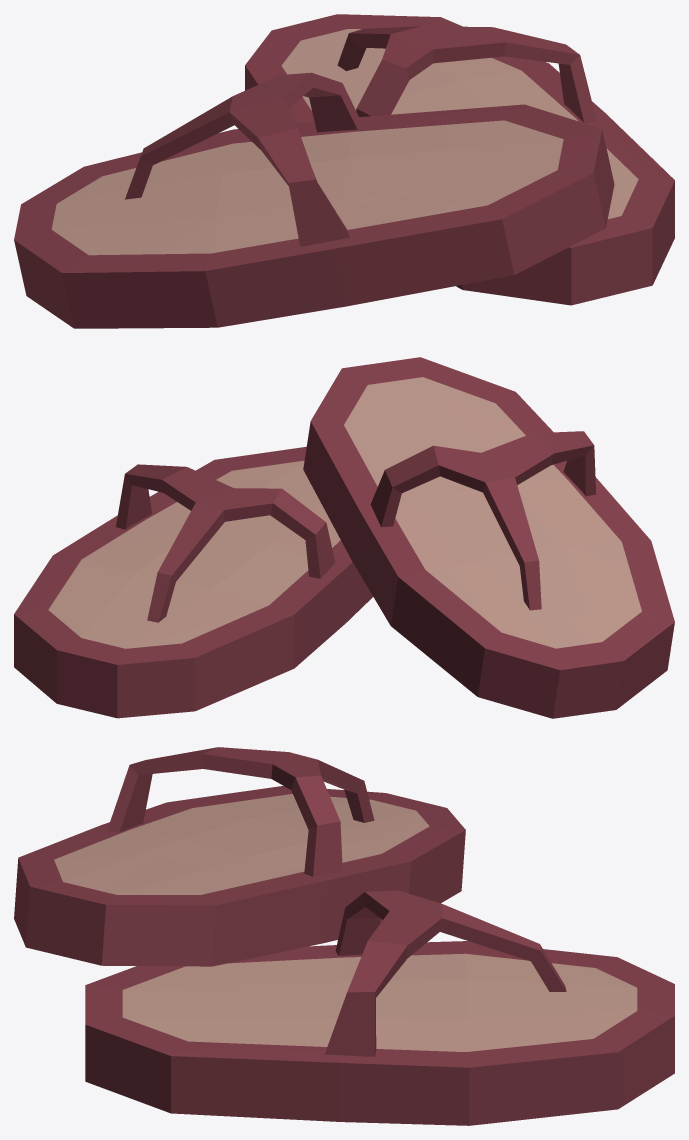
Rendered from Flip_Flops.fbx.
3 views of the same model, one above another, from view 1: azimuth 30°, elevation 25°; view 2: azimuth 150°, elevation 25°; view 3: azimuth 270°, elevation 25° (orthographic). The views are drawn at different scales.
Visible parts, largest first — view 1: Flip_Flops; view 2: Flip_Flops; view 3: Flip_Flops.
Part boxes in pixels (bbox=[...]): Flip_Flops: bbox=[14, 14, 674, 328]; Flip_Flops: bbox=[14, 357, 674, 718]; Flip_Flops: bbox=[14, 747, 674, 1125].
Size of the model in its own units: 197 by 64.06 by 196.
